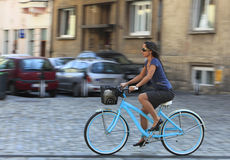bikerider: (82, 37, 210, 159)
